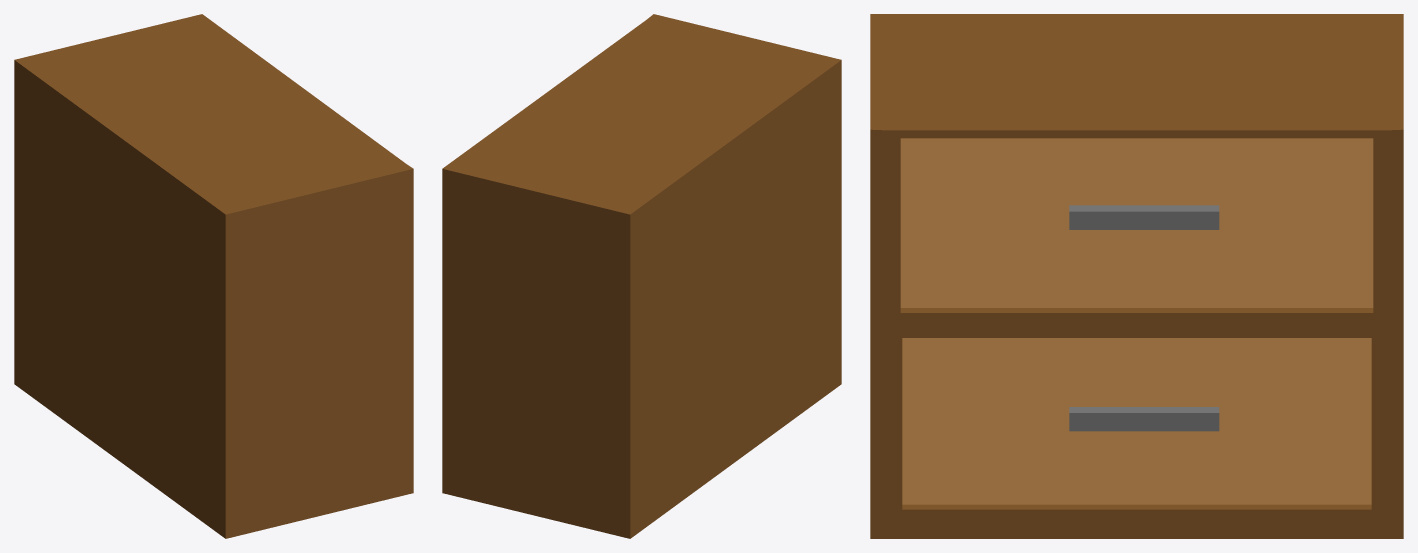
File: miniDrawer6.fbx
The picture shows the model from 3 angles, left to right: view 1: azimuth 30°, elevation 25°; view 2: azimuth 150°, elevation 25°; view 3: azimuth 270°, elevation 25°; orthographic projection. The views are drawn at different scales.
Parts seen in each view (by area): view 1: Cube.034; view 2: Cube.034; view 3: Cube.034, Cube.032, Cube.033.
Boxes of the visible parts, x1,y1,x2,y2 form: Cube.034: (14,14,413,538); Cube.034: (442,14,841,538); Cube.034: (870,14,1403,538); Cube.032: (1069,205,1219,229); Cube.033: (1069,407,1219,431).
Size of the model in its own units: 369 by 602 by 711.
